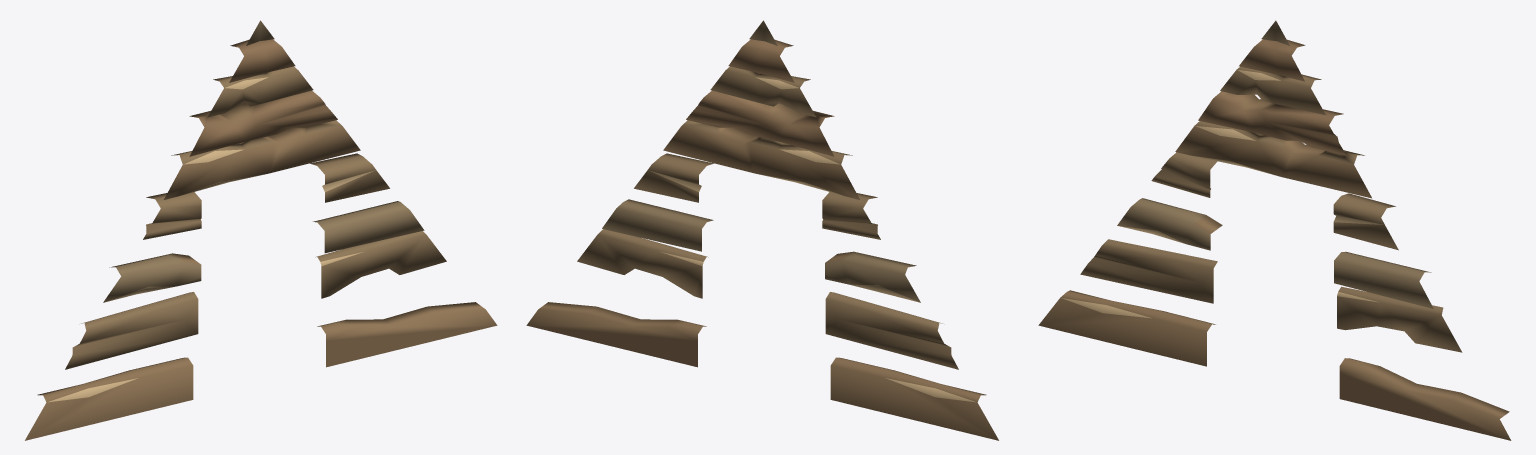
Rendered from rpgpp_av_roof_end_01_6x5_wall_door_01a.gltf.
3 views of the same model, side by side, from view 1: azimuth 30°, elevation 25°; view 2: azimuth 150°, elevation 25°; view 3: azimuth 330°, elevation 25° (orthographic).
Visible parts, largest first — view 1: rpgpp_av_roof_end_01_6x5_wall_door_01a; view 2: rpgpp_av_roof_end_01_6x5_wall_door_01a; view 3: rpgpp_av_roof_end_01_6x5_wall_door_01a.
Boxes of the visible parts, x1,y1,x2,y2 form: rpgpp_av_roof_end_01_6x5_wall_door_01a: (25, 20, 497, 440); rpgpp_av_roof_end_01_6x5_wall_door_01a: (526, 20, 998, 440); rpgpp_av_roof_end_01_6x5_wall_door_01a: (1038, 20, 1511, 440).
Size of the model in its own units: 0.0663 by 0.0486 by 0.00374.
Materials: 1 (1 with a texture image).
